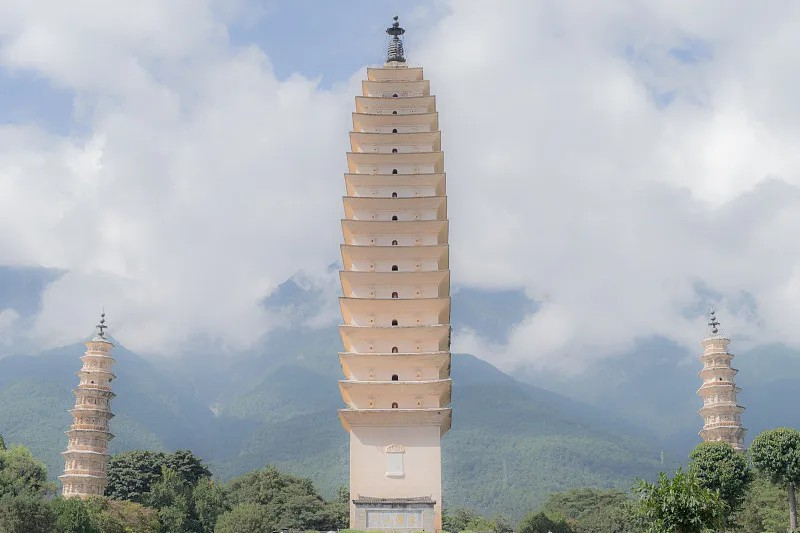ThreePagoda: (337, 14, 451, 533)
